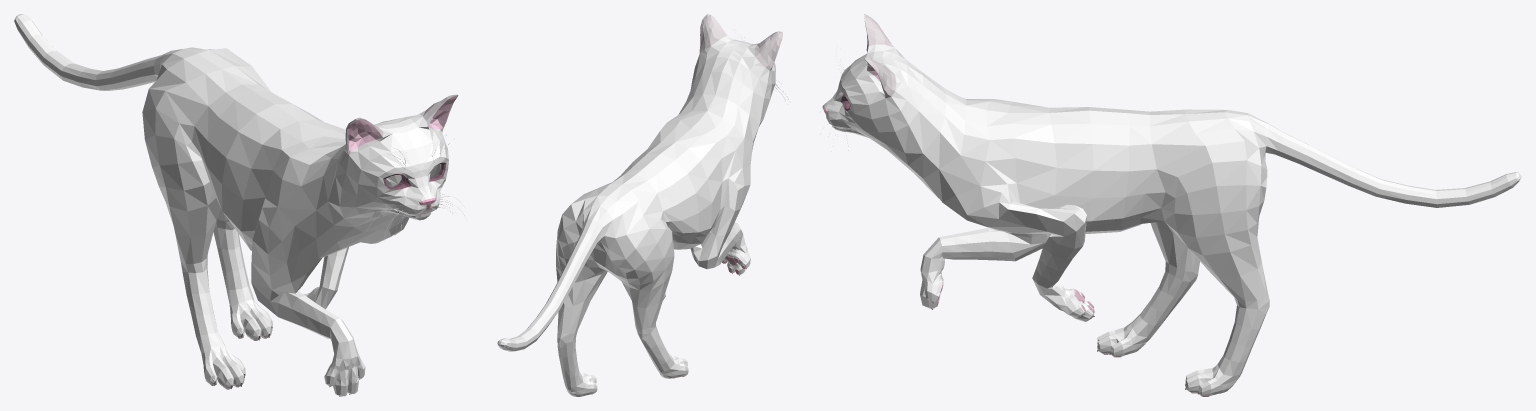
Rendered from Run_F_01.glb.
The picture shows the model from 3 angles, left to right: view 1: azimuth 30°, elevation 25°; view 2: azimuth 150°, elevation 25°; view 3: azimuth 270°, elevation 25°; orthographic projection. The views are drawn at different scales.
Parts seen in each view (by area): view 1: Run_F_01; view 2: Run_F_01; view 3: Run_F_01.
Part boxes in pixels (left/top/right/bottom): Run_F_01: left=14, top=14, right=464, bottom=396; Run_F_01: left=497, top=14, right=788, bottom=396; Run_F_01: left=820, top=14, right=1521, bottom=396.
Size of the model in its own units: 0.1635 by 0.4029 by 0.7573.
Materials: 1 (1 with a texture image).
